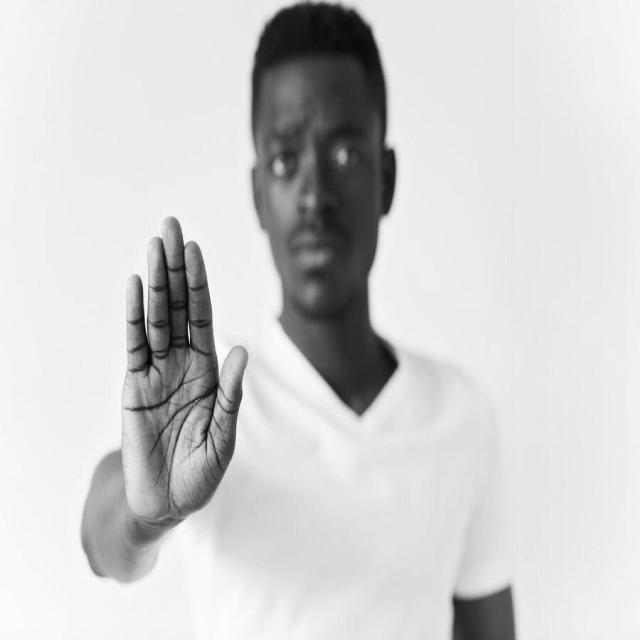stop: (114, 208, 252, 528)
